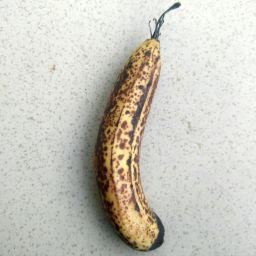banana: (92, 1, 184, 254)
